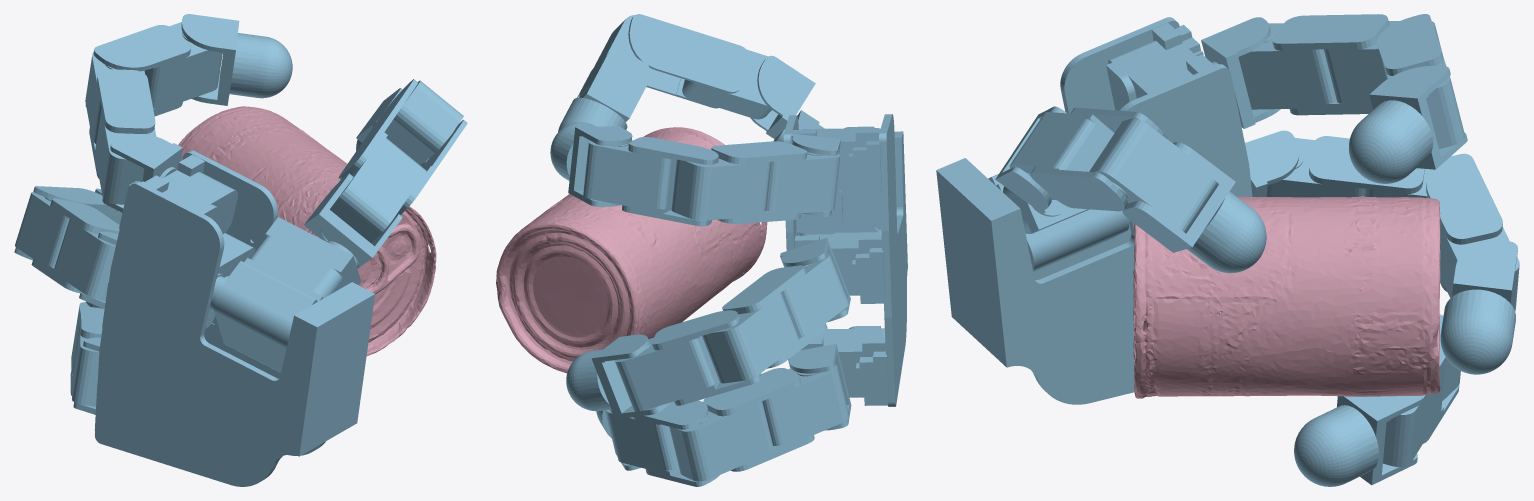
3 views of the same model, side by side, from view 1: azimuth 30°, elevation 25°; view 2: azimuth 150°, elevation 25°; view 3: azimuth 270°, elevation 25° (orthographic). The views are drawn at different scales.
Parts seen in each view (by area): view 1: world; view 2: world; view 3: world.
Boxes of the visible parts, bbox=[...] form: world: bbox=[14, 14, 467, 486]; world: bbox=[496, 14, 907, 486]; world: bbox=[936, 14, 1519, 486].
Size of the model in its own units: 0.1505 by 0.1524 by 0.1935.
